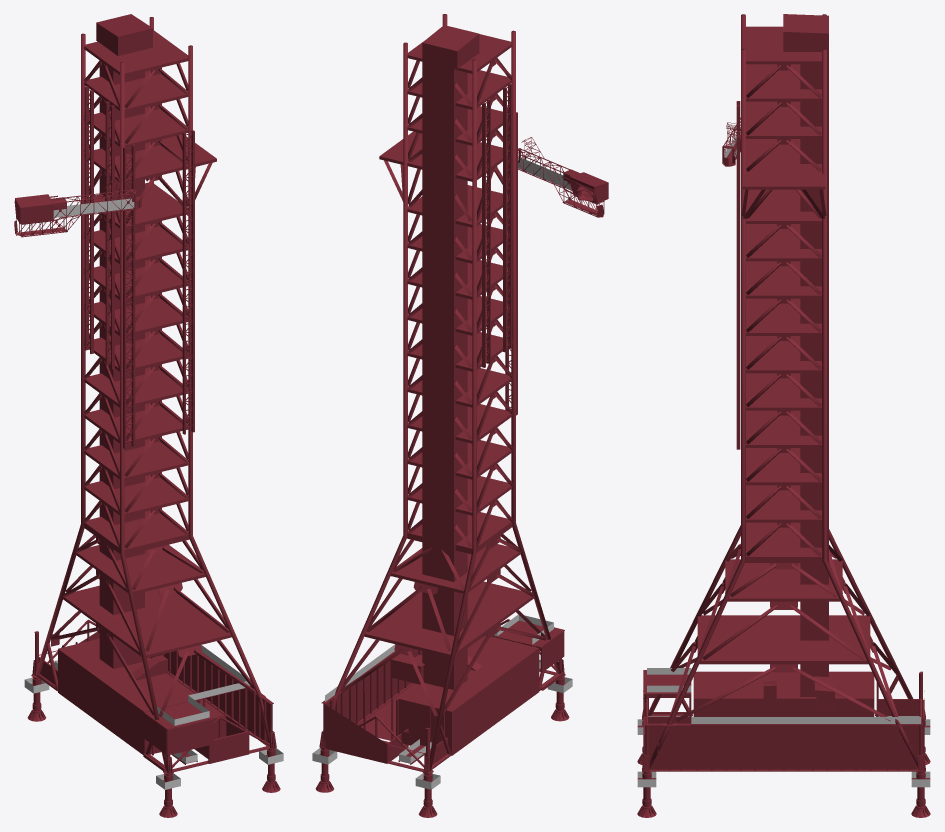
The model's file is NASA-LaunchPad.fbx.
3 views of the same model, side by side, from view 1: azimuth 30°, elevation 25°; view 2: azimuth 150°, elevation 25°; view 3: azimuth 270°, elevation 25° (orthographic). The views are drawn at different scales.
Parts seen in each view (by area): view 1: ML_HP; view 2: ML_HP; view 3: ML_HP.
Part boxes in pixels (x1,y1,x2,y2): ML_HP: (14,14,283,817); ML_HP: (312,14,608,817); ML_HP: (637,14,930,817).
Size of the model in its own units: 74.45 by 246 by 86.72.
